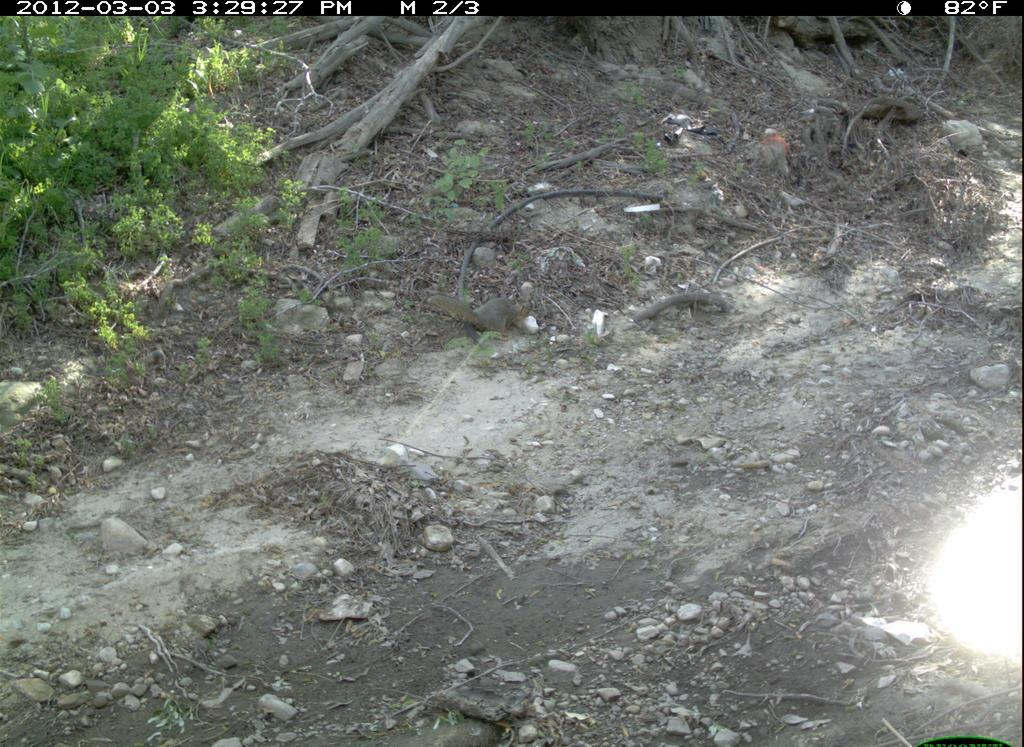squirrel: (422, 277, 534, 347)
